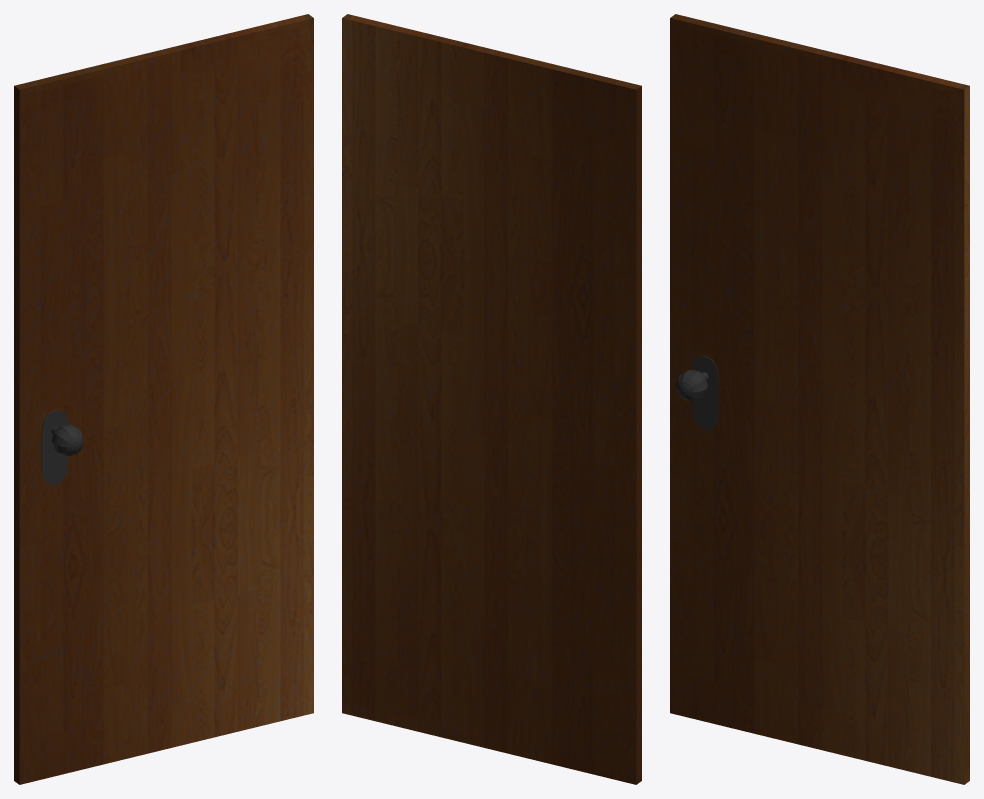
Rendered from door.obj.
3 views of the same model, side by side, from view 1: azimuth 30°, elevation 25°; view 2: azimuth 150°, elevation 25°; view 3: azimuth 330°, elevation 25° (orthographic).
Parts seen in each view (by area): view 1: door_Door_pCube1, pPlane3; view 2: door_Door_pCube1; view 3: door_Door_pCube1, pPlane3.
Part boxes in pixels (box(x1,y1,x2,y2)): door_Door_pCube1: box(14, 14, 313, 784); pPlane3: box(41, 410, 84, 484); door_Door_pCube1: box(342, 14, 641, 784); door_Door_pCube1: box(670, 14, 969, 784); pPlane3: box(675, 356, 718, 429).
Bounding box in the file's own units: 10.1 × 22.8 × 1.6.
2 materials, 1 textured.
